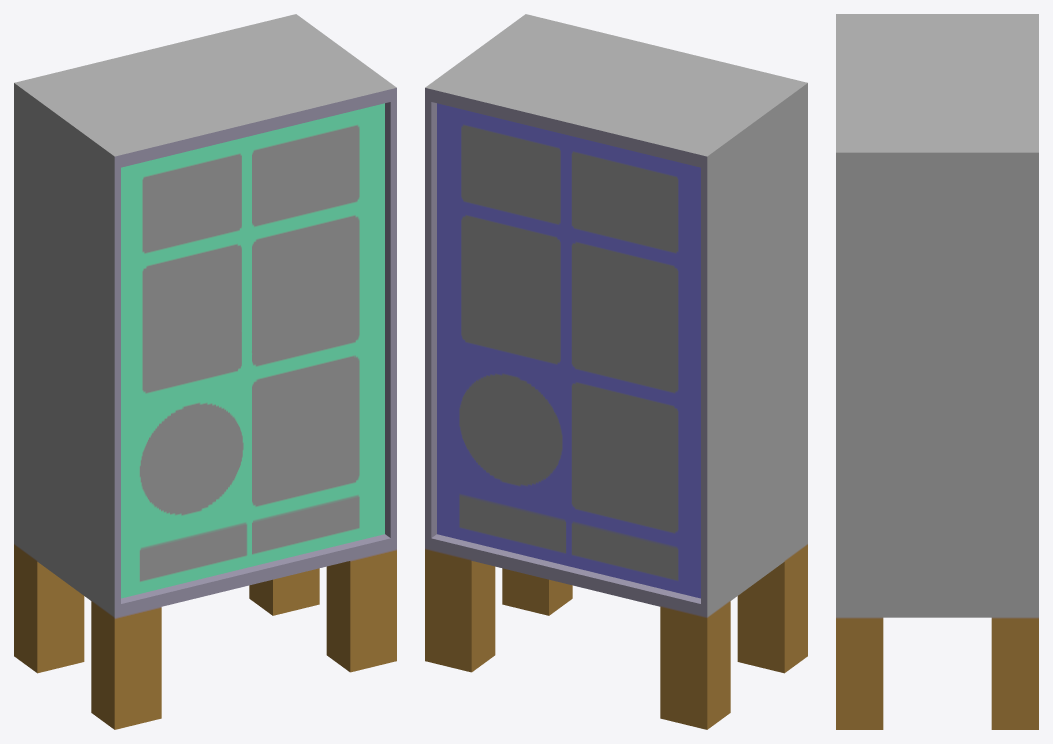
Rendered from signsign1.fbx.
3 renders of one model, left to right at view 1: azimuth 30°, elevation 25°; view 2: azimuth 150°, elevation 25°; view 3: azimuth 270°, elevation 25°, orthographic.
Parts seen in each view (by area): view 1: sign1; view 2: sign1; view 3: sign1.
Part boxes in pixels (<box>): sign1: <box>14,14,396,729</box>; sign1: <box>425,14,807,729</box>; sign1: <box>836,14,1038,729</box>.
Bounding box in the file's own units: 0.3171 × 0.1961 × 0.6157.
1 material, 1 textured.
